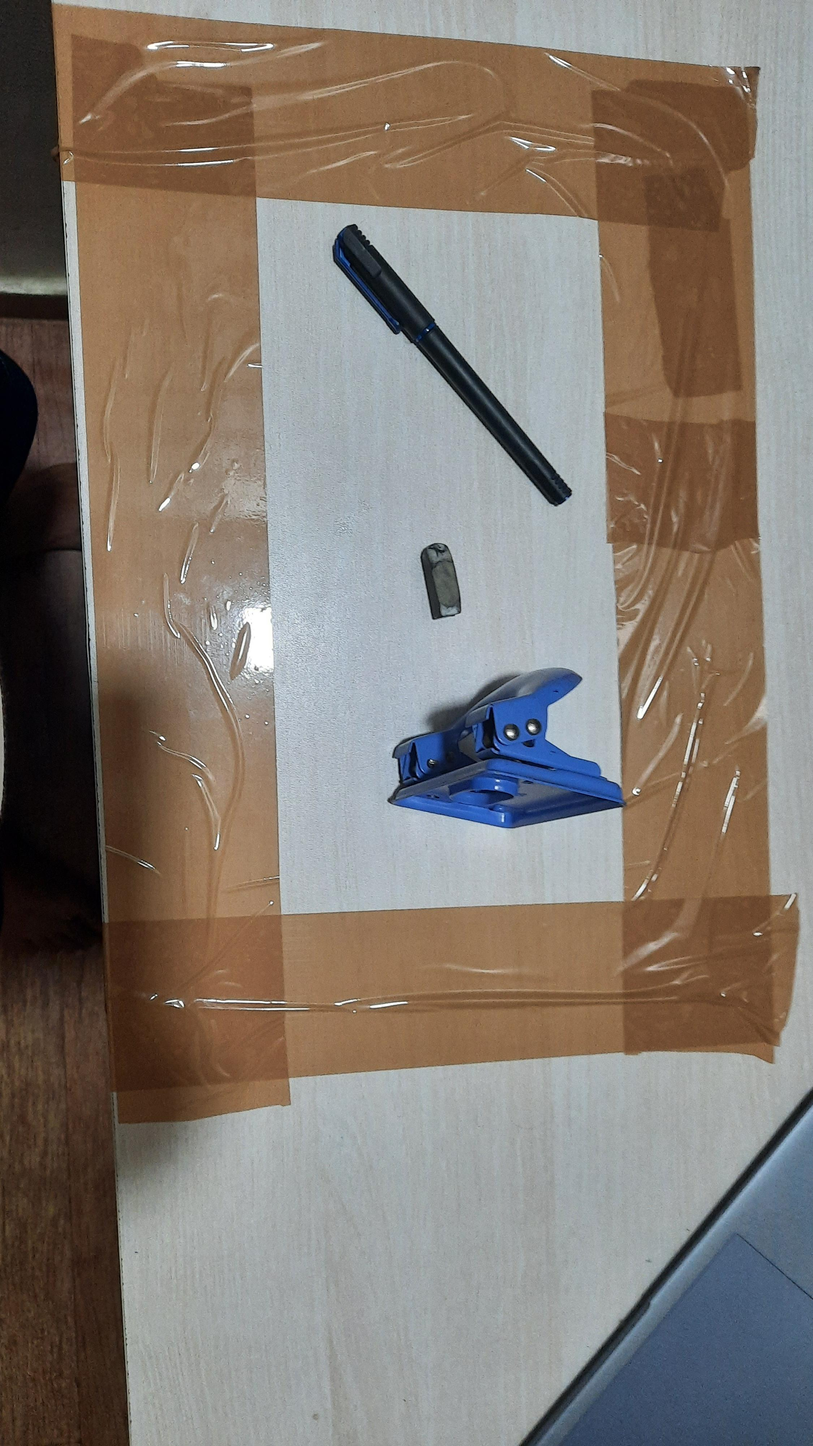Eraser: (421, 543, 461, 620)
Pen: (332, 223, 572, 508)
Punch: (388, 667, 626, 830)
